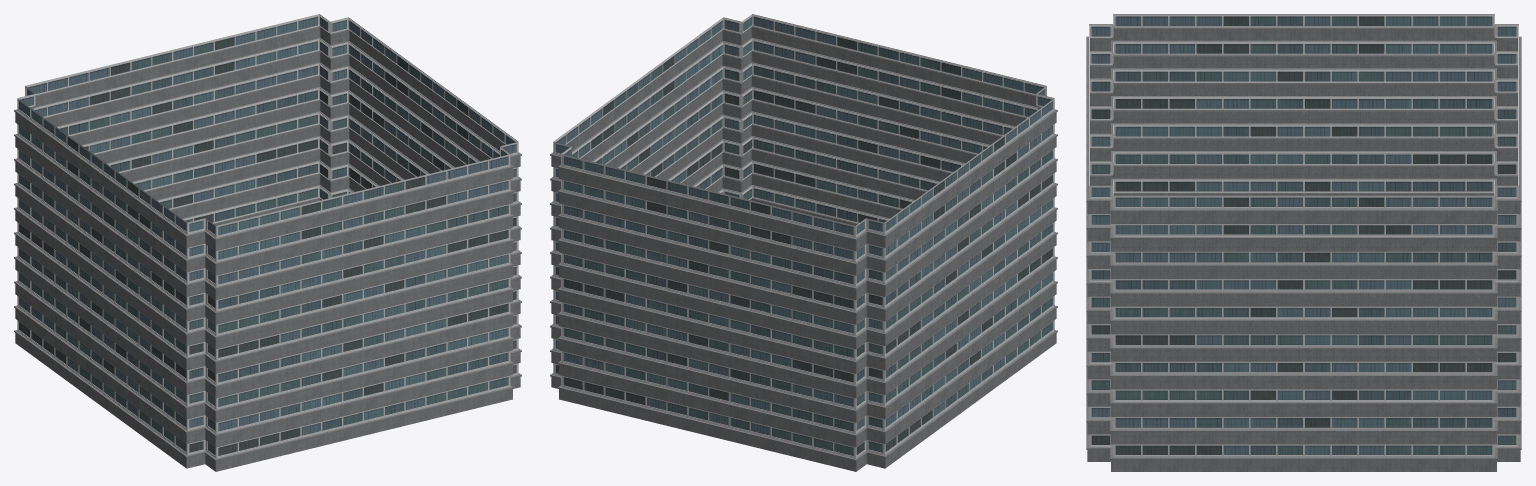
The model's file is jctBld50A_mdl.fbx.
The picture shows the model from 3 angles, left to right: view 1: azimuth 30°, elevation 25°; view 2: azimuth 150°, elevation 25°; view 3: azimuth 270°, elevation 25°; orthographic projection. The views are drawn at different scales.
Visible parts, largest first — view 1: jctBld50A_mdl_LOD0; view 2: jctBld50A_mdl_LOD0; view 3: jctBld50A_mdl_LOD0.
Boxes of the visible parts, left/top/right/bottom form: jctBld50A_mdl_LOD0: left=14, top=14, right=521, bottom=471; jctBld50A_mdl_LOD0: left=550, top=14, right=1057, bottom=471; jctBld50A_mdl_LOD0: left=1086, top=14, right=1521, bottom=471.
Size of the model in its own units: 5010 by 3500 by 5010.
